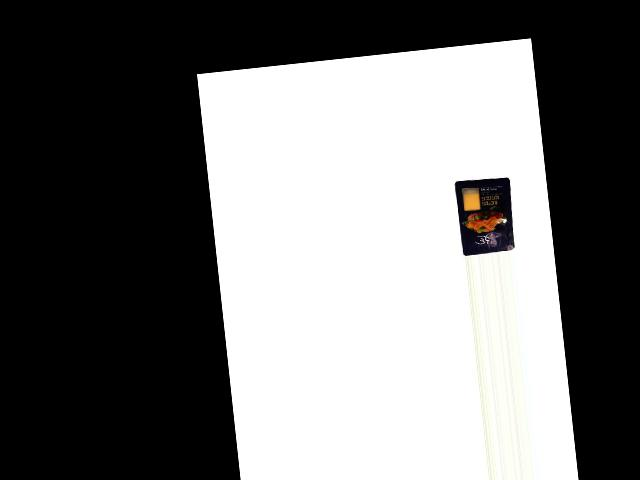cheese: (454, 175, 519, 256)
